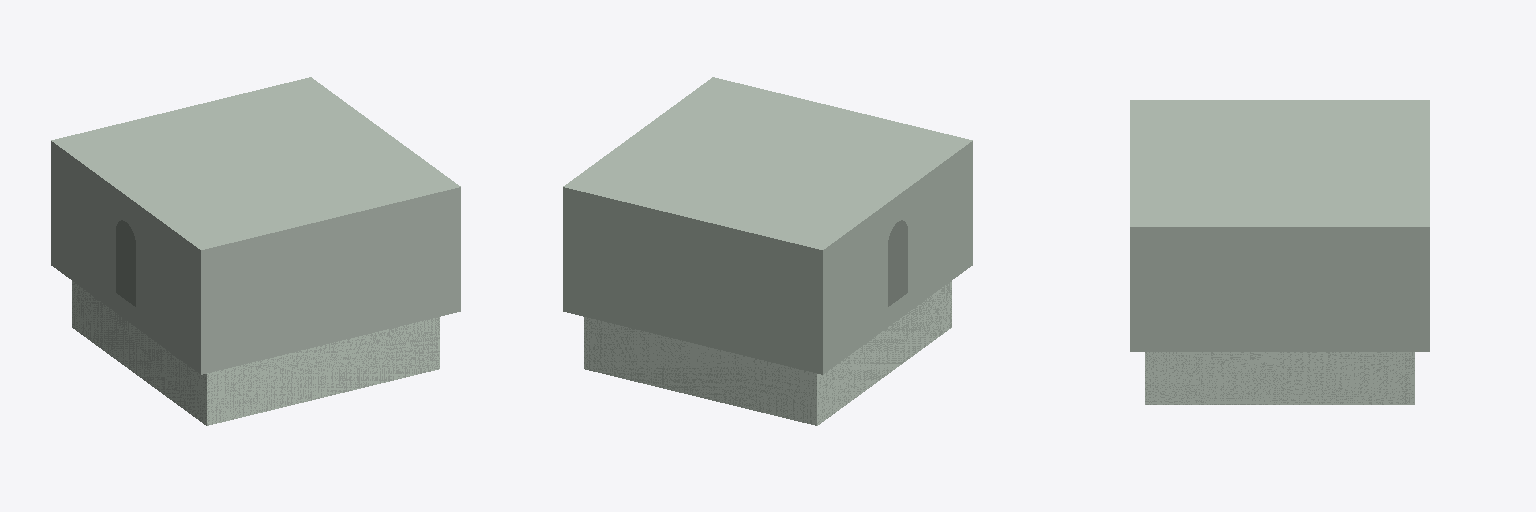
Rendered from tile_007.obj.
3 renders of one model, left to right at view 1: azimuth 30°, elevation 25°; view 2: azimuth 150°, elevation 25°; view 3: azimuth 270°, elevation 25°, orthographic.
Visible parts, largest first — view 1: tile_007; view 2: tile_007; view 3: tile_007.
Part boxes in pixels (x1,y1,x2,y2): tile_007: (51, 77, 460, 425); tile_007: (563, 77, 972, 425); tile_007: (1130, 100, 1429, 404).
Bounding box in the file's own units: 0.5901 × 0.4 × 0.5901.